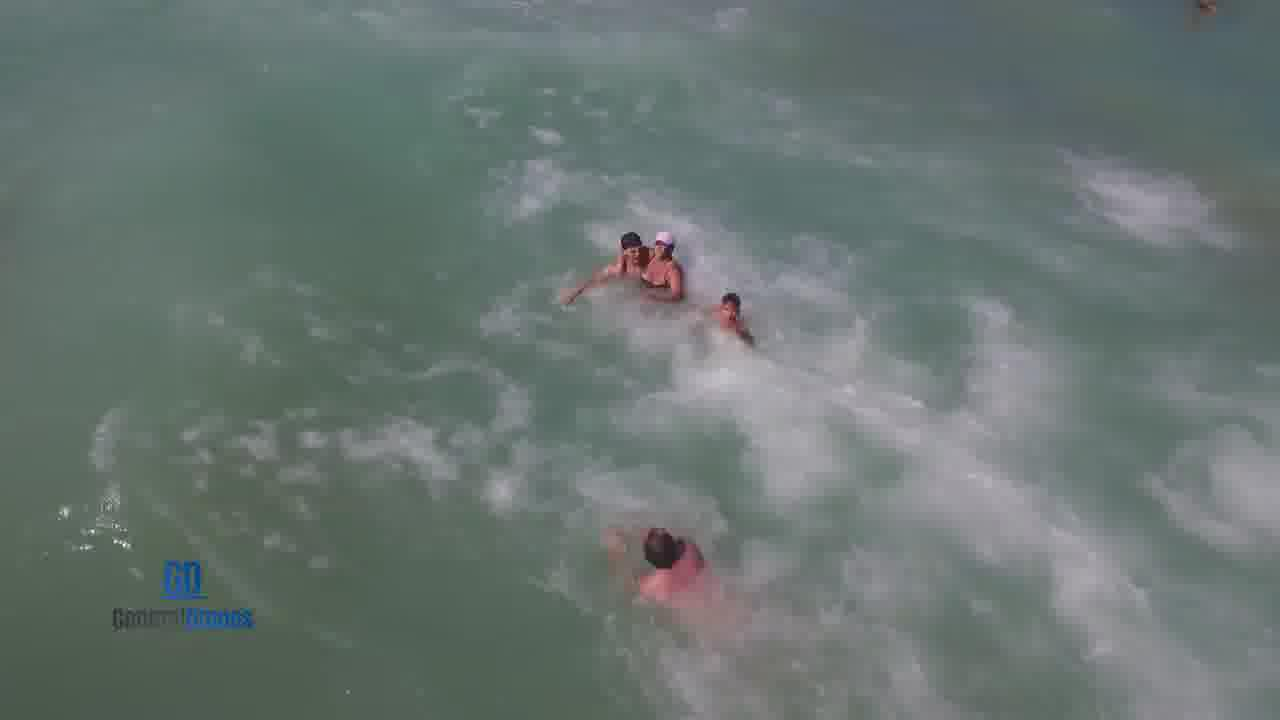swimmer: (596, 510, 728, 620), (565, 222, 651, 294), (699, 284, 764, 345), (640, 232, 689, 311)
